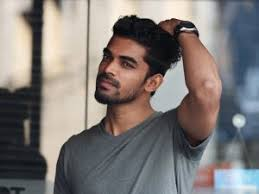b.y: (95, 73, 118, 104)
